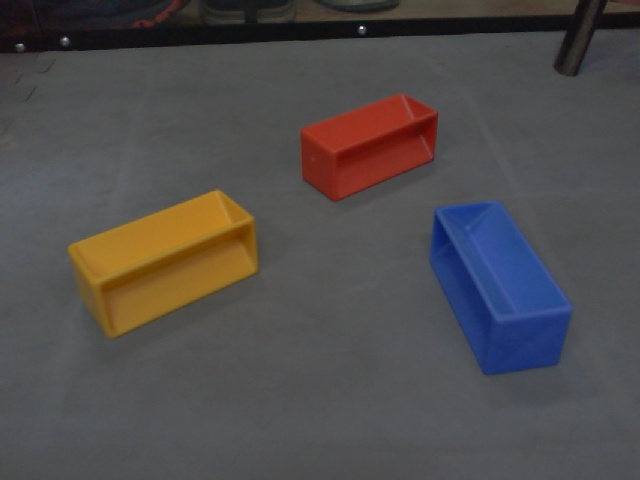BlueSample: (428, 200, 575, 378)
RedSample: (298, 92, 441, 204)
YellowSample: (65, 186, 258, 343)
